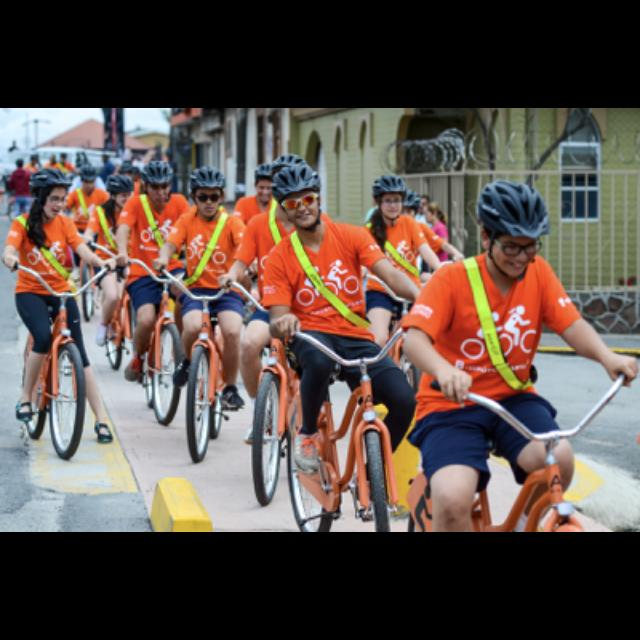With Helmet: (475, 175, 549, 282), (268, 162, 322, 232), (26, 164, 74, 216), (366, 172, 414, 222), (186, 164, 228, 218)
